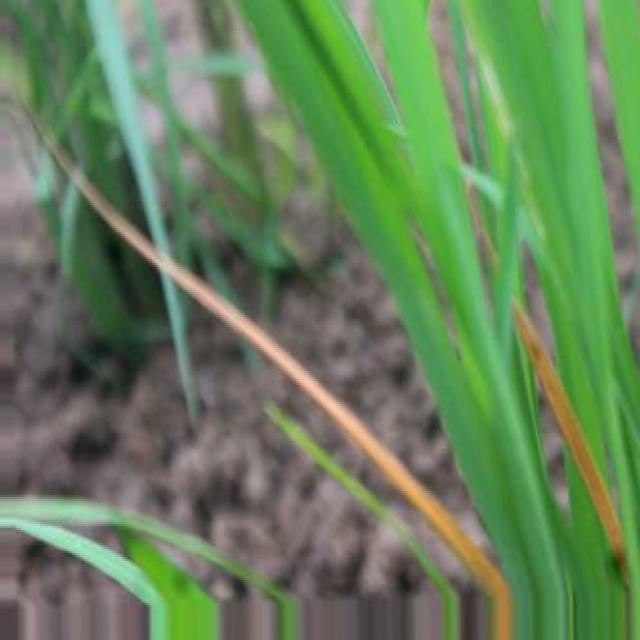Rice Tungro: (38, 127, 511, 639), (516, 302, 626, 571)
